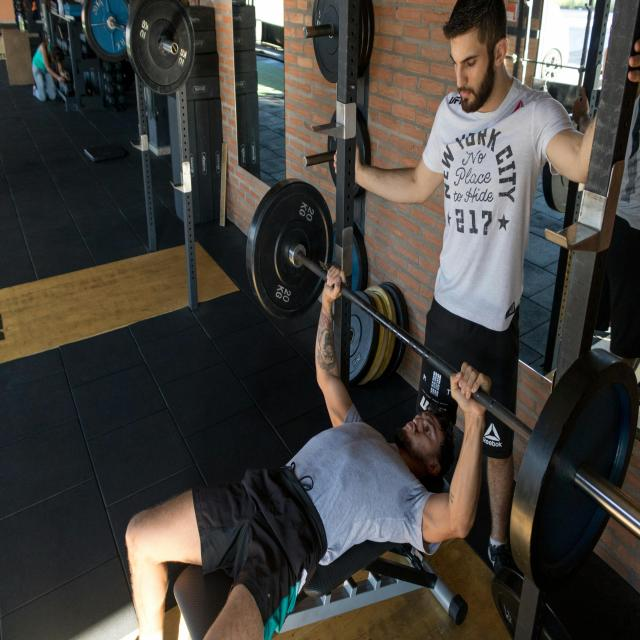lie: (99, 409, 496, 573)
sit: (32, 36, 70, 110)
stand: (419, 5, 545, 540)
